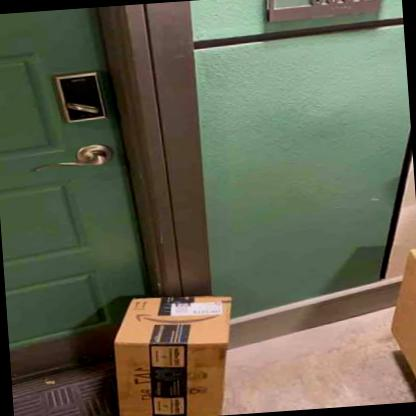box: (115, 293, 234, 416)
